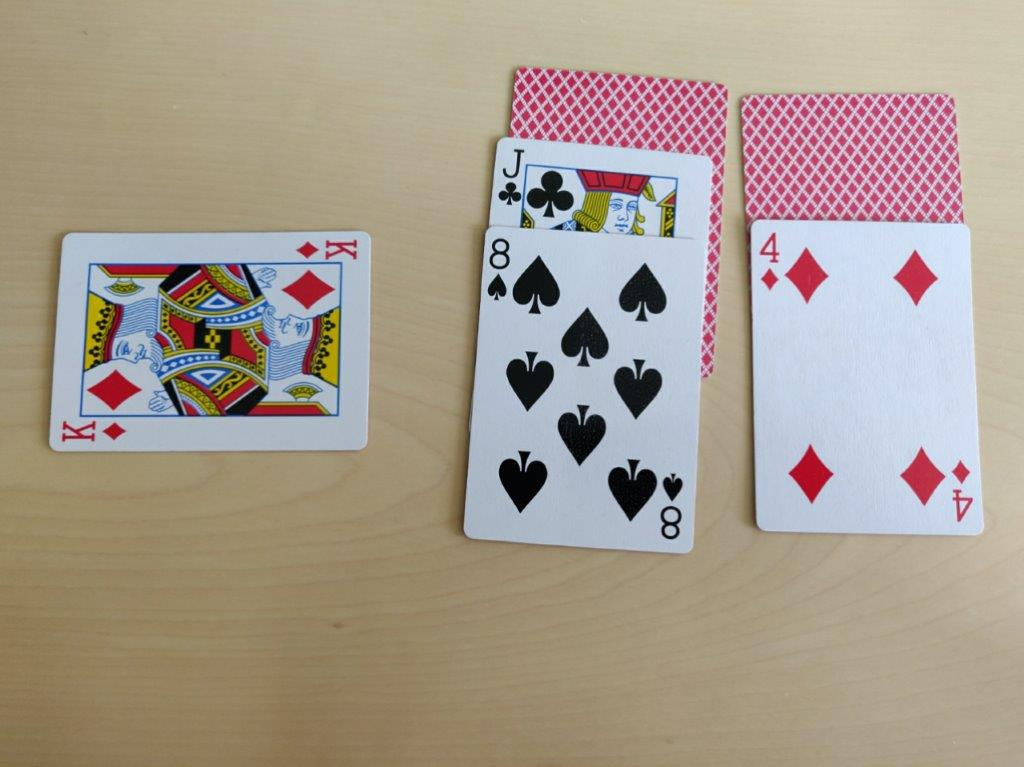4D: (755, 228, 785, 295)
8S: (478, 235, 518, 307)
BACK: (747, 93, 967, 222), (511, 60, 728, 152)
JC: (496, 143, 527, 208)
